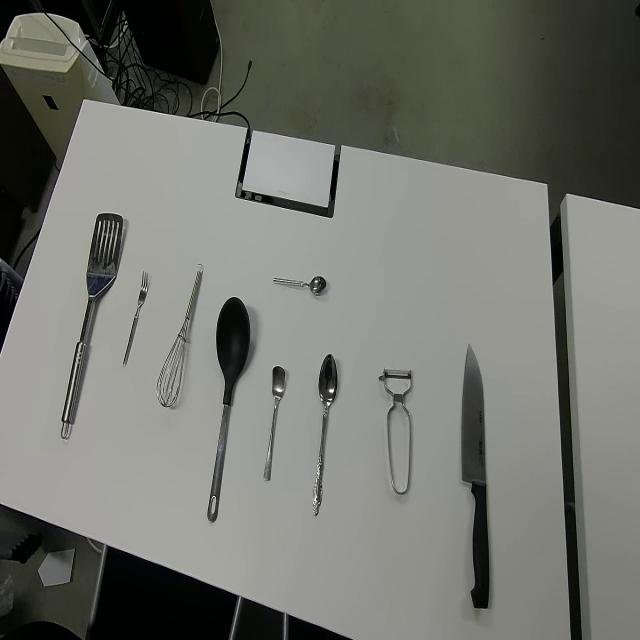Desert-Spoon: (312, 352, 338, 516)
Dinner-Fork: (123, 268, 150, 368)
Kitchen-Knife: (460, 342, 491, 607)
Peeler: (378, 366, 413, 495)
Serving-Spoon: (60, 212, 123, 442), (207, 296, 251, 524)
Tea-Spoon: (263, 362, 286, 479), (272, 271, 326, 295)
Whisk: (157, 262, 204, 409)
